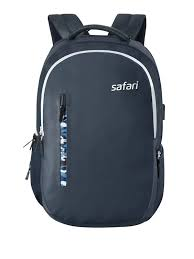backpack: (24, 12, 165, 227)
